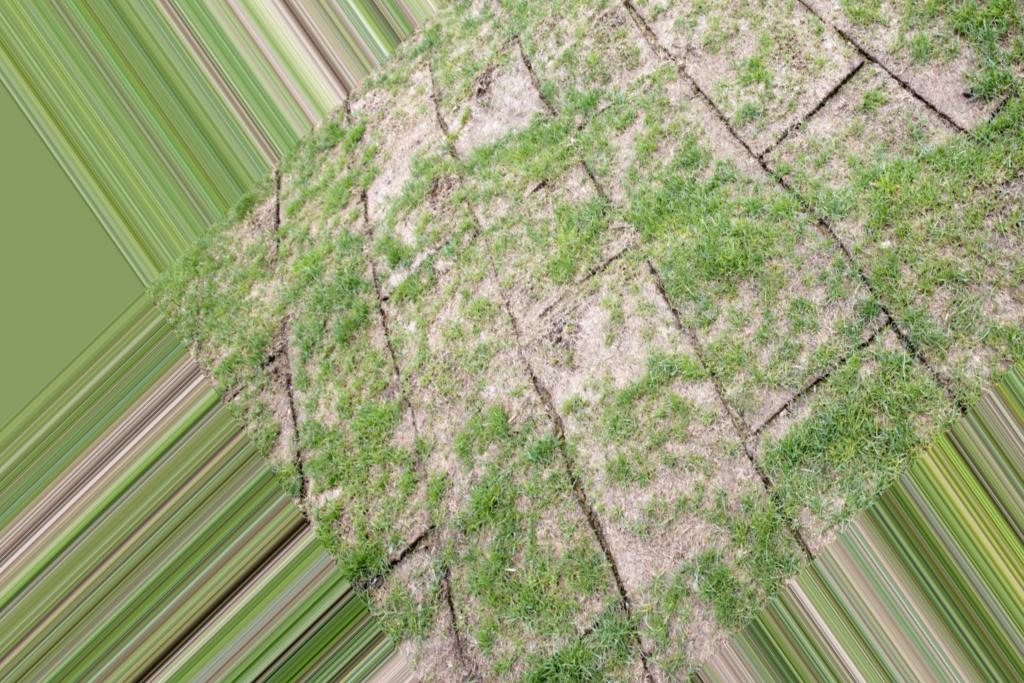patch: (386, 243, 492, 360), (616, 489, 714, 576), (825, 38, 918, 129), (539, 310, 646, 380), (768, 279, 864, 354), (443, 92, 543, 139)
